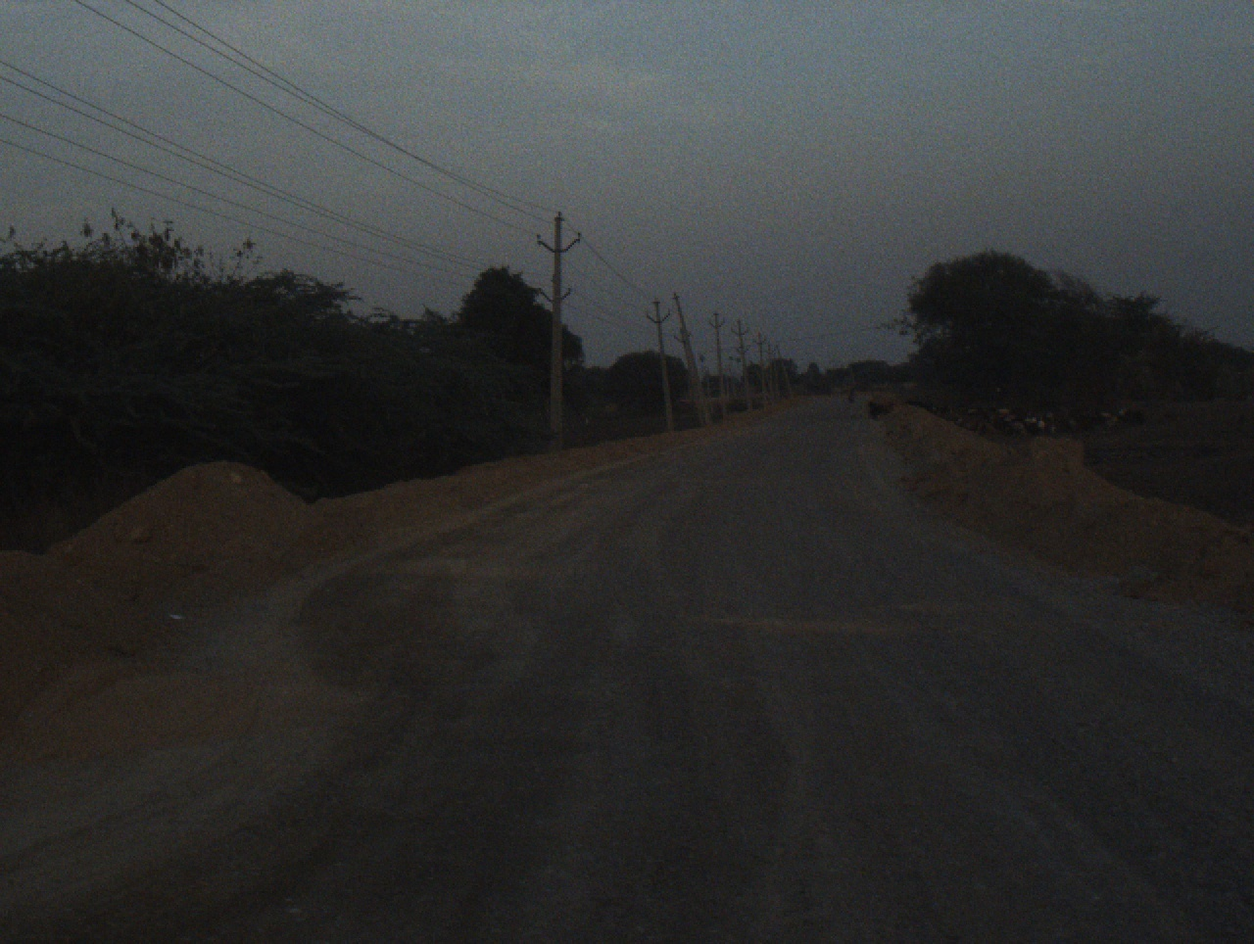animal: (966, 392, 1041, 436), (1055, 404, 1122, 436), (899, 385, 957, 416), (866, 392, 892, 416)
